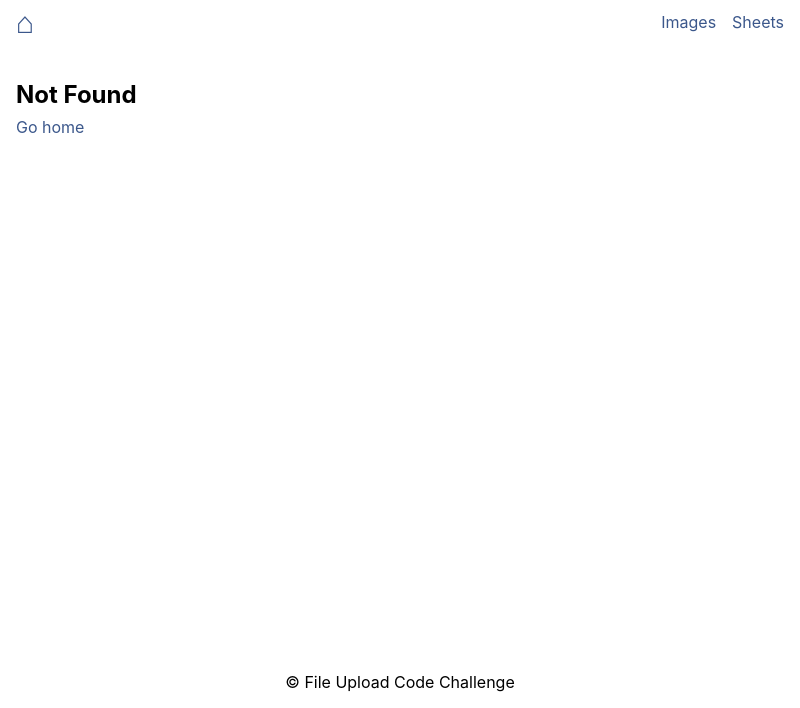
Test case: routing › shows not found
Expected: the heading "Not Found" is shown, top-left (16, 80), bottom-right (137, 109)
What coordinates should you click on to do the following:
click the link "Go home"
I would click on:
 (50, 127)
Its box is top-left (16, 117), bottom-right (84, 137).
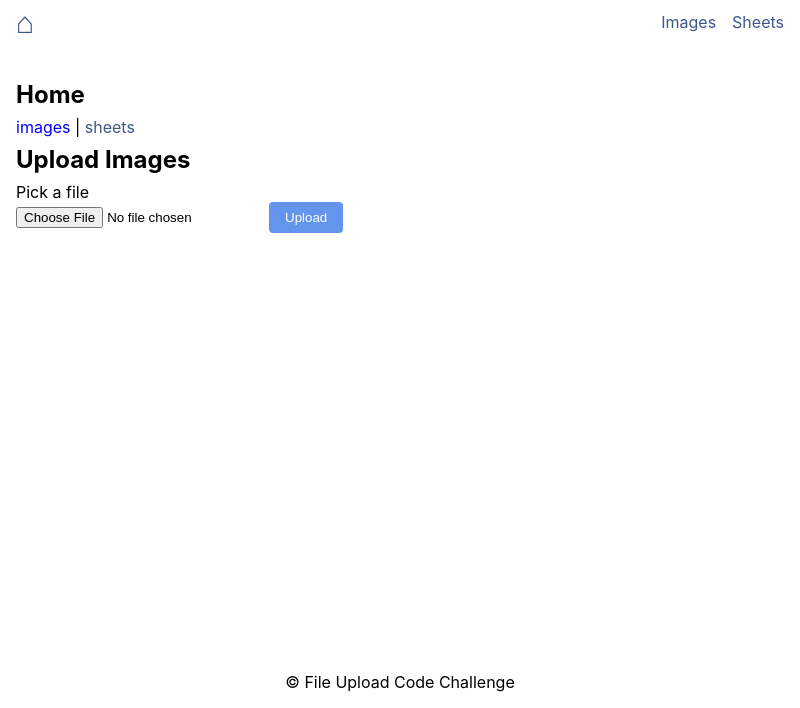
Now the heading "Home" is shown, box top-left (16, 80), bottom-right (85, 109)
